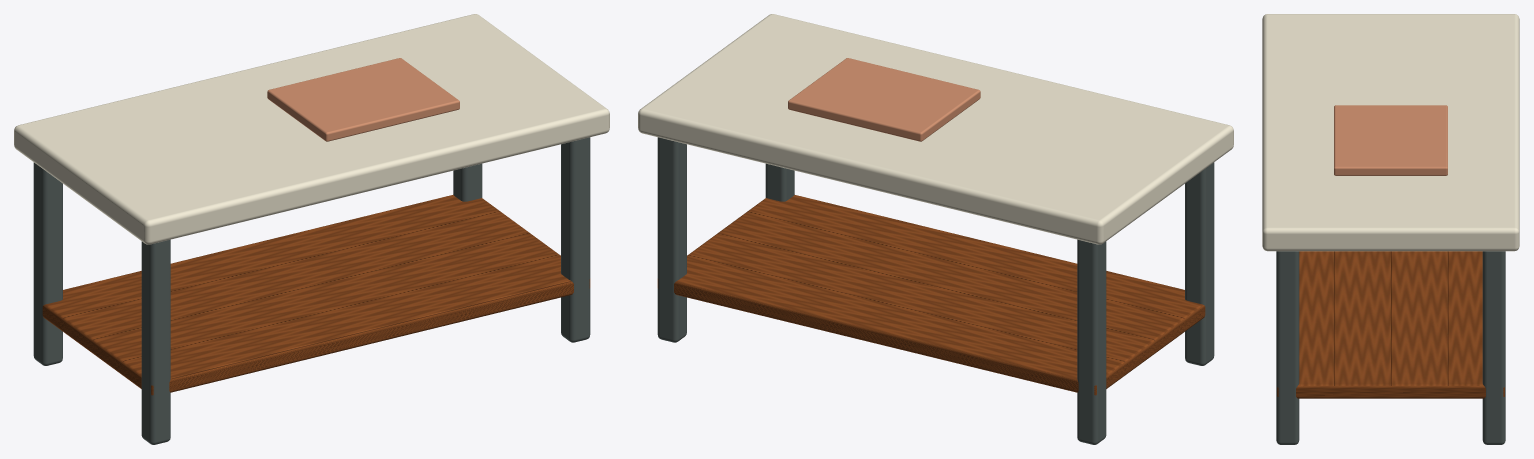
File: ceramics-pottery-studio-wedging-table-1876805c__29488.glb
3 views of the same model, side by side, from view 1: azimuth 30°, elevation 25°; view 2: azimuth 150°, elevation 25°; view 3: azimuth 270°, elevation 25° (orthographic). The views are drawn at different scales.
Parts seen in each view (by area): view 1: wedging-table; view 2: wedging-table; view 3: wedging-table.
Part boxes in pixels (left/top/right/bottom): wedging-table: left=14, top=14, right=609, bottom=444; wedging-table: left=638, top=14, right=1233, bottom=444; wedging-table: left=1262, top=14, right=1519, bottom=444.
Bounding box in the file's own units: 1.8 × 0.895 × 0.9001.
Materials: 4 (1 with a texture image).
